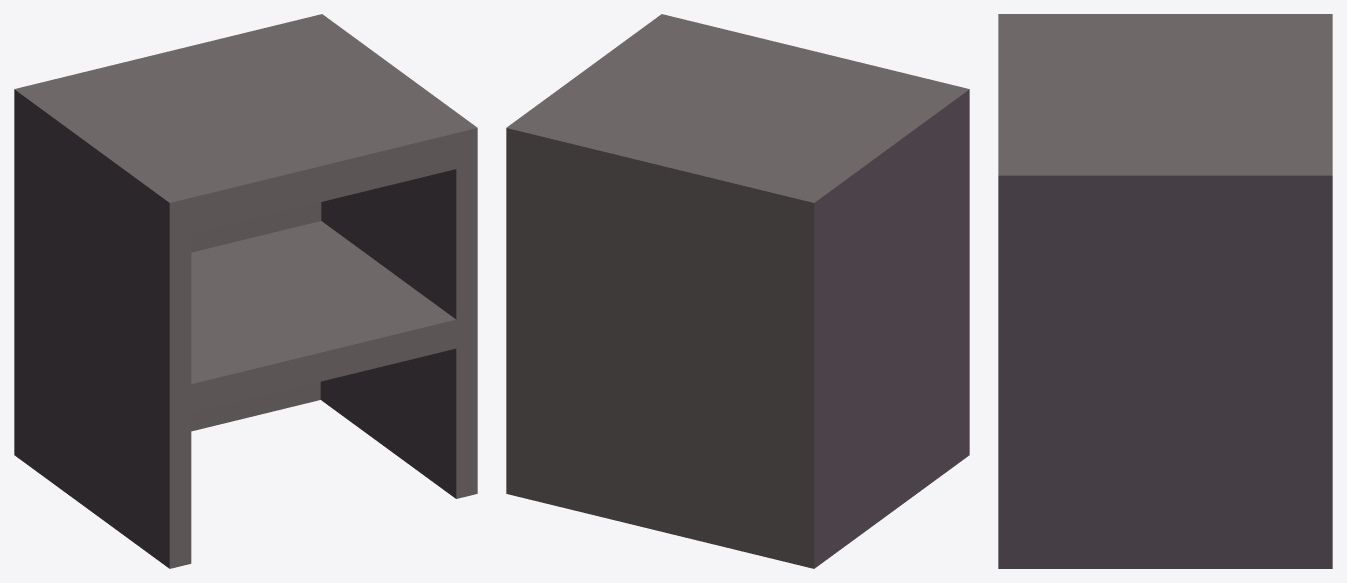
The model's file is Side DrawerShelf.fbx.
3 renders of one model, left to right at view 1: azimuth 30°, elevation 25°; view 2: azimuth 150°, elevation 25°; view 3: azimuth 270°, elevation 25°, orthographic. The views are drawn at different scales.
Parts seen in each view (by area): view 1: Side DrawerShelf; view 2: Side DrawerShelf; view 3: Side DrawerShelf.
Part boxes in pixels (x1=…): Side DrawerShelf: x1=14, y1=14, x2=477, y2=568; Side DrawerShelf: x1=506, y1=14, x2=969, y2=568; Side DrawerShelf: x1=998, y1=14, x2=1332, y2=568.
Size of the model in its own units: 127 by 144 by 111.
